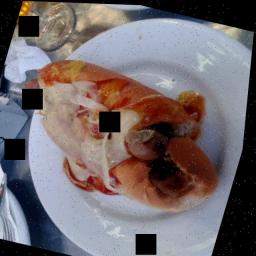hotdog: (126, 123, 179, 166)
